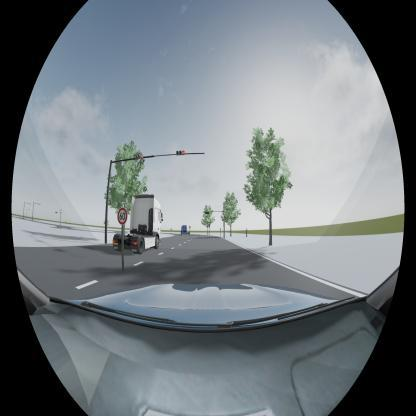Green Light: (206, 211, 210, 215)
Red Light: (134, 154, 144, 160), (176, 151, 185, 156)
